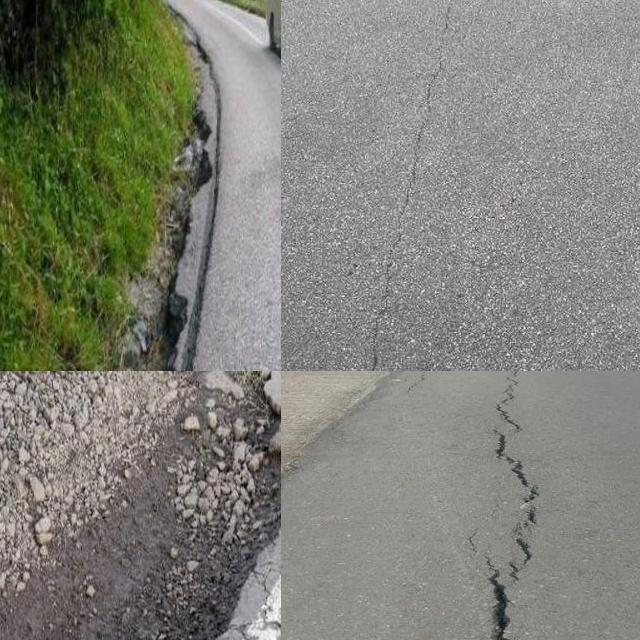Memanjang: (354, 0, 473, 371), (478, 371, 548, 640)
Pinggir: (0, 371, 281, 640), (111, 45, 233, 371)
